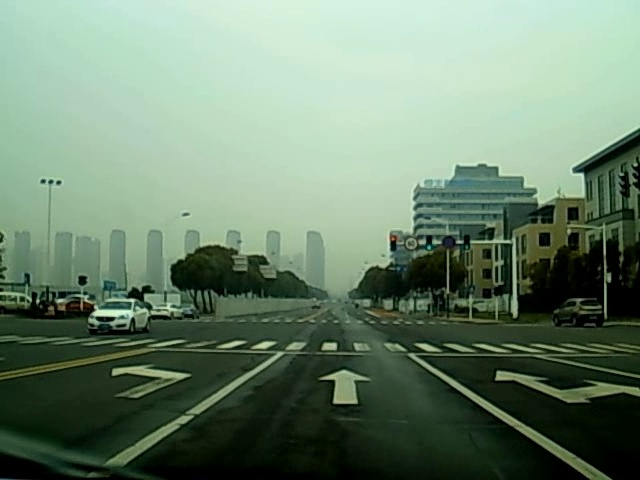Traffic_Light_go: (463, 235, 470, 252), (426, 236, 432, 254)
Traffic_Light_stop: (388, 234, 396, 254)
